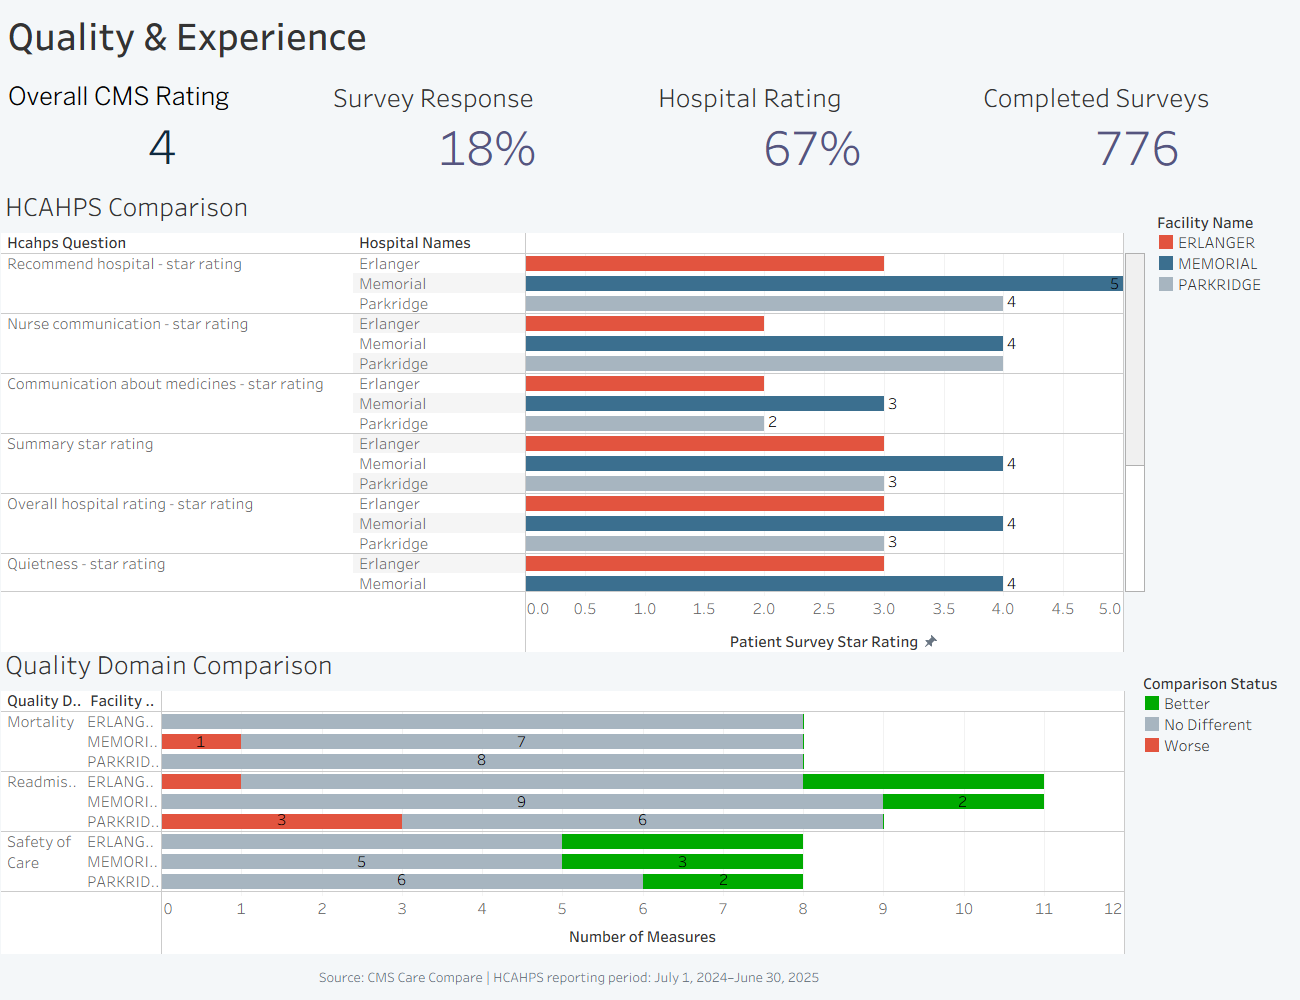

What the dashboard file says about the page in this screenshot:
{"tool":"tableau","page":{"name":"Quality & Experience","canvas":[1300,1000],"ordinal":3},"visuals":[{"type":"title","box":[0,0,1300,130]},{"type":"worksheet","title":"Completed Surveys","mark":"Automatic","box":[1055.6,1,229.7,119]},{"type":"worksheet","title":"Overall CMS Rating","mark":"Text","box":[373.5,2.9,206.3,135.2]},{"type":"worksheet","title":"Hospital Rating","mark":"Automatic","box":[607.5,6.7,195,139.1]},{"type":"worksheet","title":"Survey Response","mark":"Automatic","box":[826.8,6.7,220.1,115.2]},{"type":"worksheet","title":"HCAHPS Comparison","mark":"Bar","rows":["hcahps_question","Calculation_1342266564247554"],"cols":["patient_survey_star_rating_numeric"],"box":[0.9,126.4,1131,478.2]},{"type":"legend","title":"HCAHPS Comparison","param":"[federated.1ohazlw1wlq07o13y30k41djyc0w].[none:facility_name:nk]","box":[1139.7,156.2,146.5,101.9]},{"type":"worksheet","title":"Quality Domain Comparison","mark":"Bar","rows":["Calculation_1342266515943424","facility_name (Facility Quality)"],"cols":["Pivot Field Values"],"box":[0.9,602.7,1133.6,352.7]},{"type":"legend","title":"Quality Domain Comparison","param":"[federated.1ohazlw1wlq07o13y30k41djyc0w (copy)].[none:Calculation_13422665160744","box":[1142.3,671.4,143.9,116.2]},{"type":"text","box":[3.5,908.6,1131.9,80]}]}

Visuals, with their boxes in screenshot pixels (x1, y1, x2, y2), scaled from the page's 1300x1000 canvas onto the 1300x1000 screenshot:
title: Rect(0, 0, 1299, 130)
"Completed Surveys" worksheet: Rect(1056, 1, 1285, 120)
"Overall CMS Rating" worksheet (Text marks): Rect(374, 3, 580, 138)
"Hospital Rating" worksheet: Rect(608, 7, 802, 146)
"Survey Response" worksheet: Rect(827, 7, 1047, 122)
"HCAHPS Comparison" worksheet (Bar marks): Rect(1, 126, 1132, 605)
"HCAHPS Comparison" legend: Rect(1140, 156, 1286, 258)
"Quality Domain Comparison" worksheet (Bar marks): Rect(1, 603, 1134, 955)
"Quality Domain Comparison" legend: Rect(1142, 671, 1286, 788)
text: Rect(4, 909, 1135, 989)
